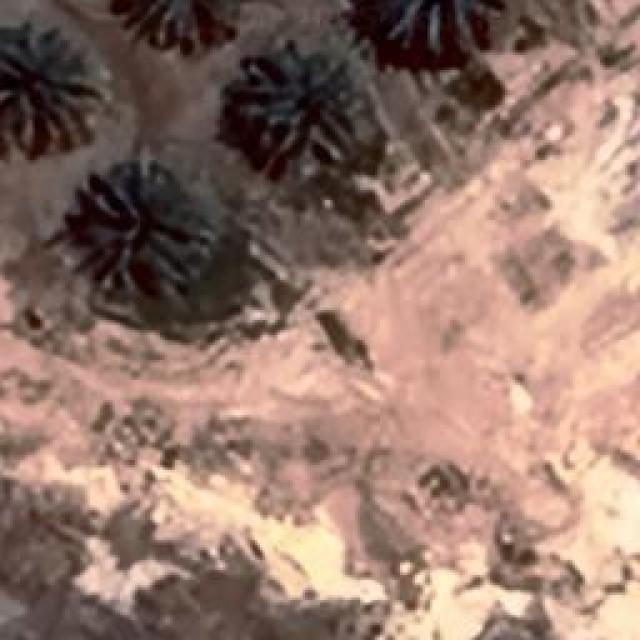PalmTree: (80, 165, 208, 298), (240, 40, 365, 165), (0, 20, 95, 145), (377, 0, 492, 52), (117, 0, 240, 48)
